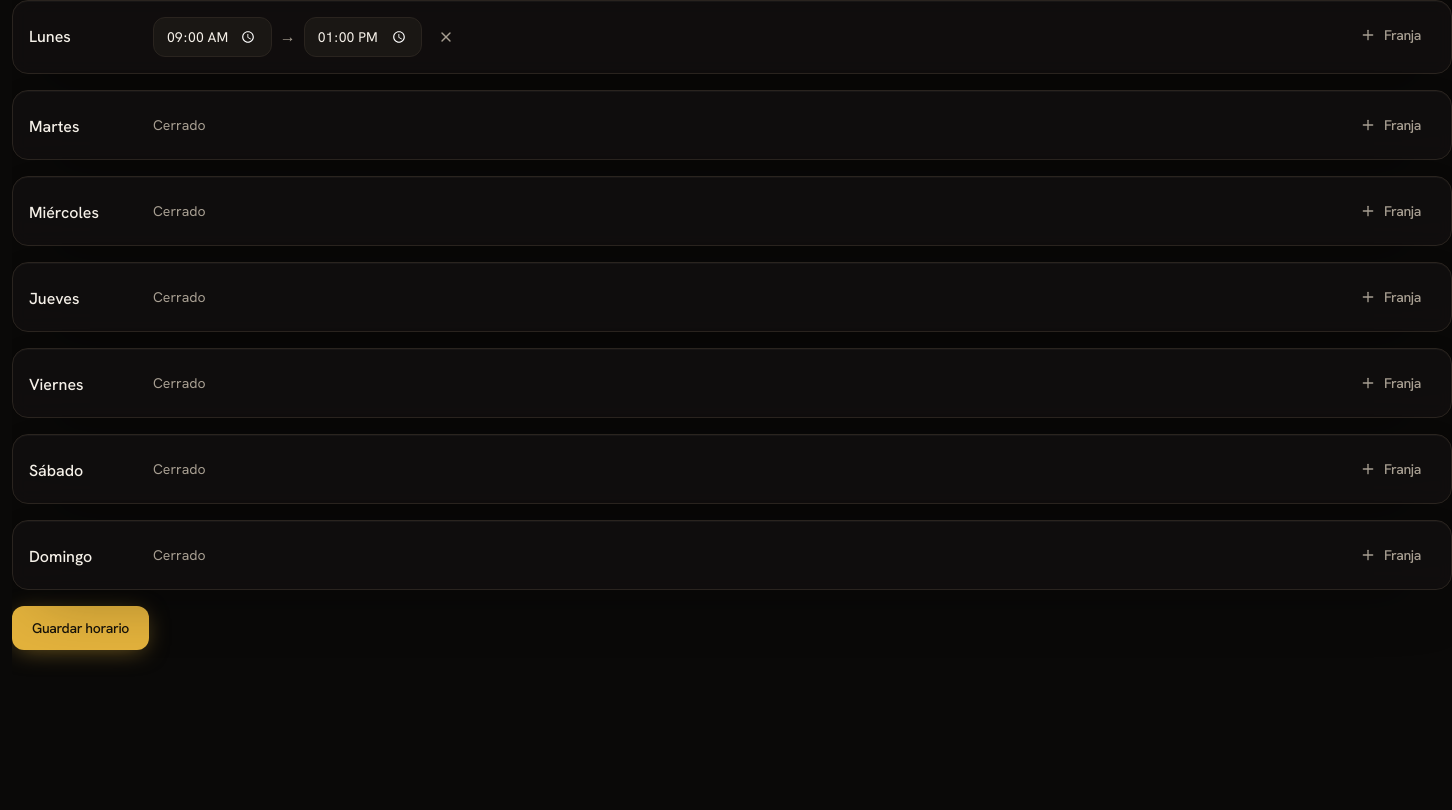
Test: ScheduleEditor › removes a window and closes the weekday again
Click the button named "Quitar franja" at (446, 37), box [430,21,462,53]
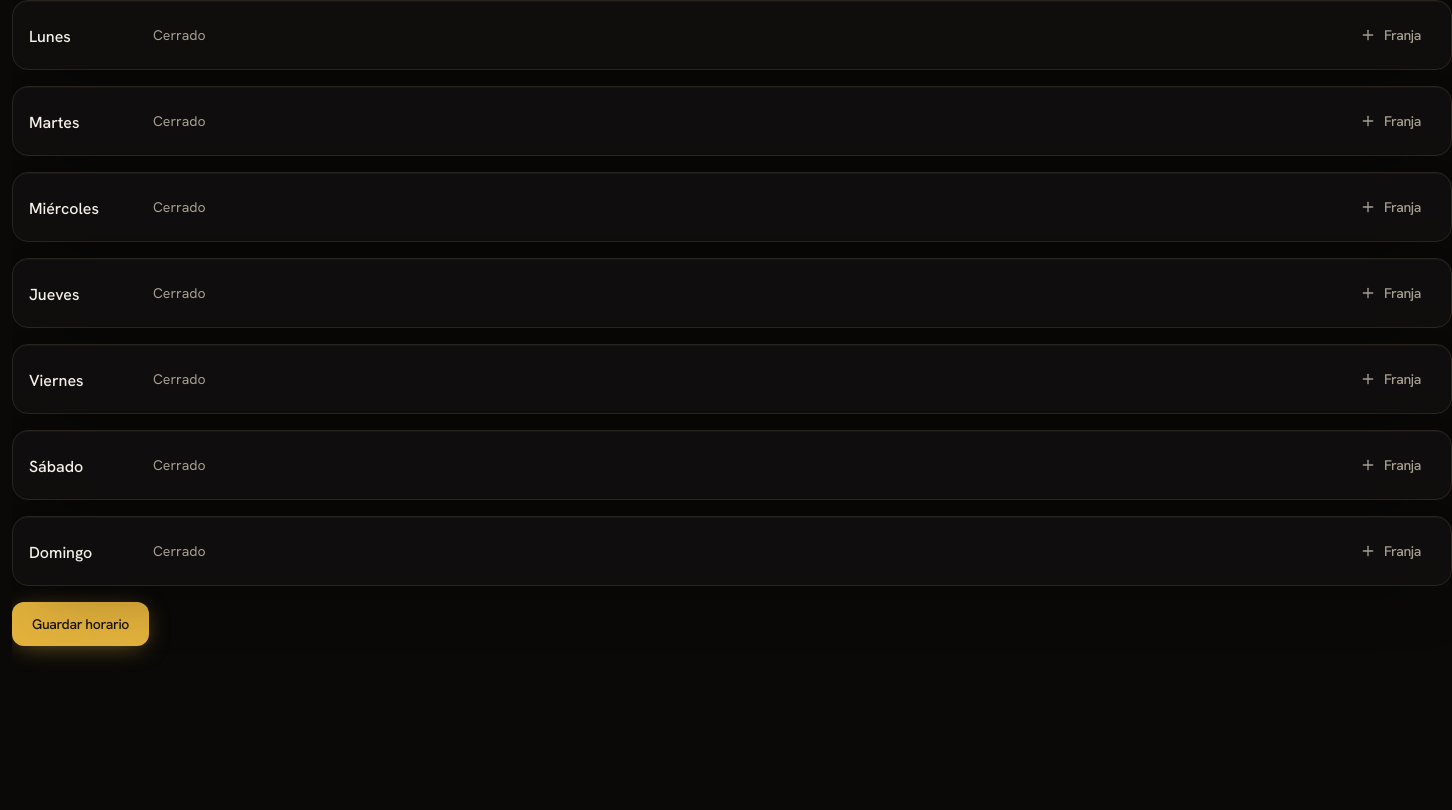
Result: the text "Cerrado" next to "Lunes" is shown at [153,26,206,44]
